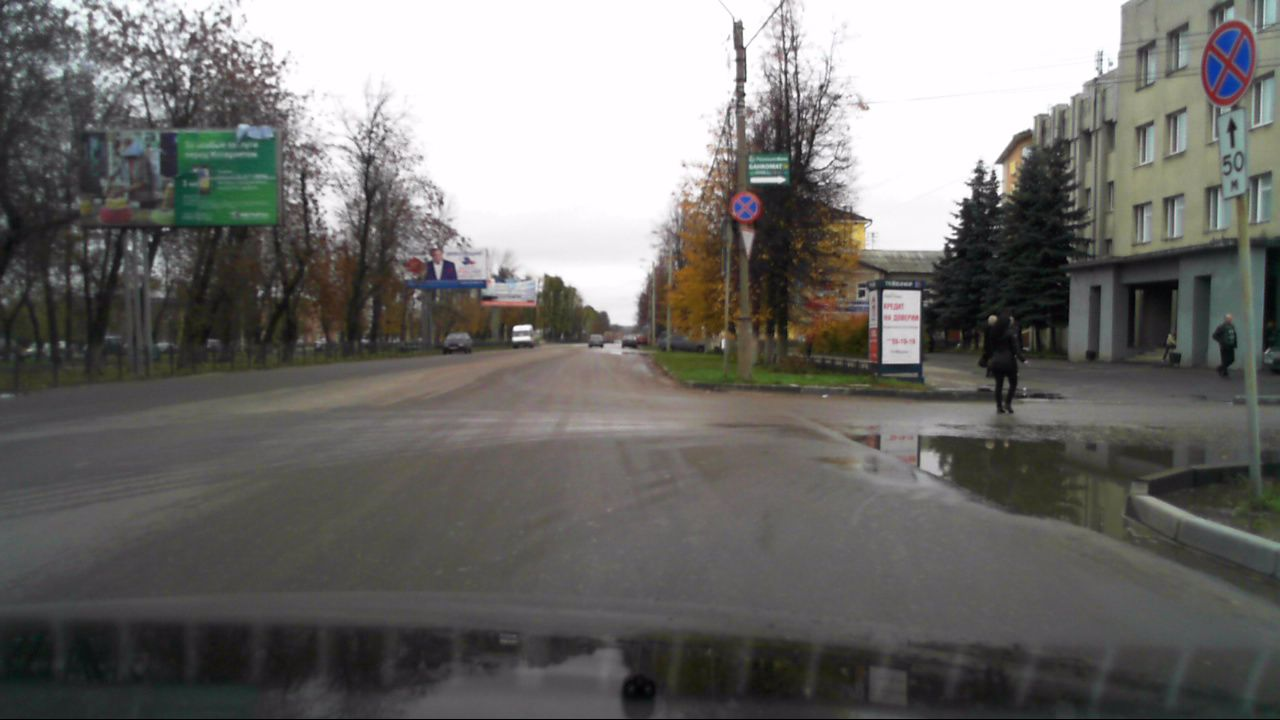No Parking: (1201, 19, 1257, 106)
